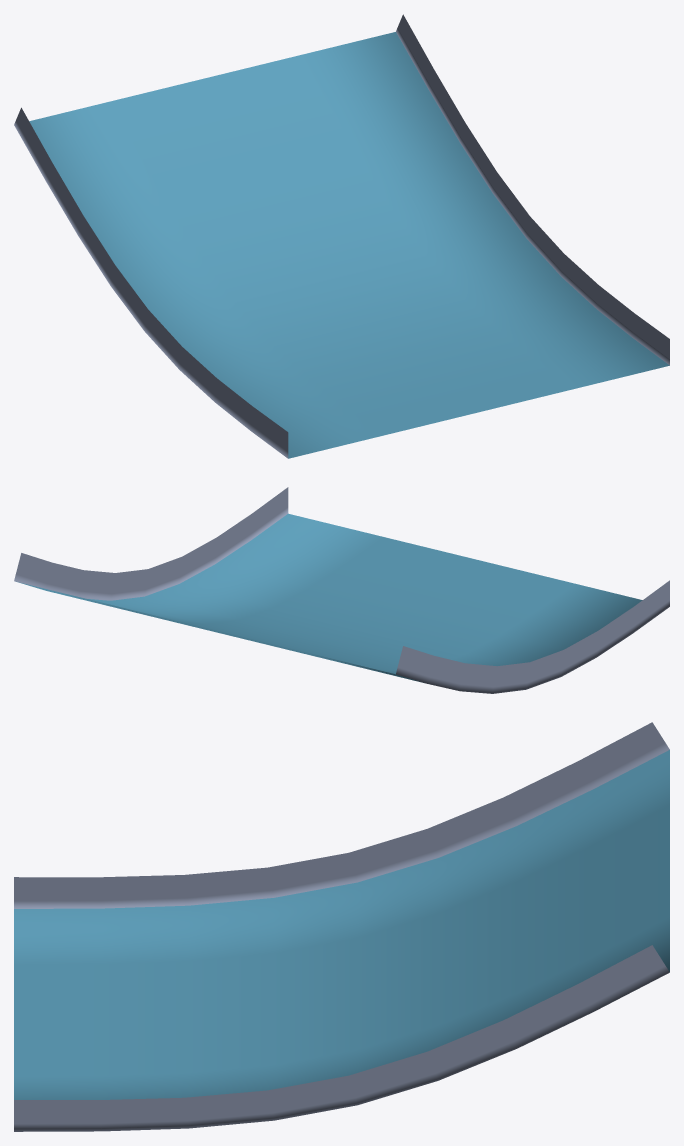
File: Track_UpSlope_30.fbx
The picture shows the model from 3 angles, top to bottom: view 1: azimuth 30°, elevation 25°; view 2: azimuth 150°, elevation 25°; view 3: azimuth 270°, elevation 25°; orthographic projection. The views are drawn at different scales.
Visible parts, largest first — view 1: UpSlope30; view 2: UpSlope30; view 3: UpSlope30.
Boxes of the visible parts, x1=… form: UpSlope30: x1=14, y1=14, x2=669, y2=458; UpSlope30: x1=14, y1=487, x2=669, y2=693; UpSlope30: x1=14, y1=722, x2=669, y2=1131.
Bounding box in the file's own units: 300 × 117 × 373.
